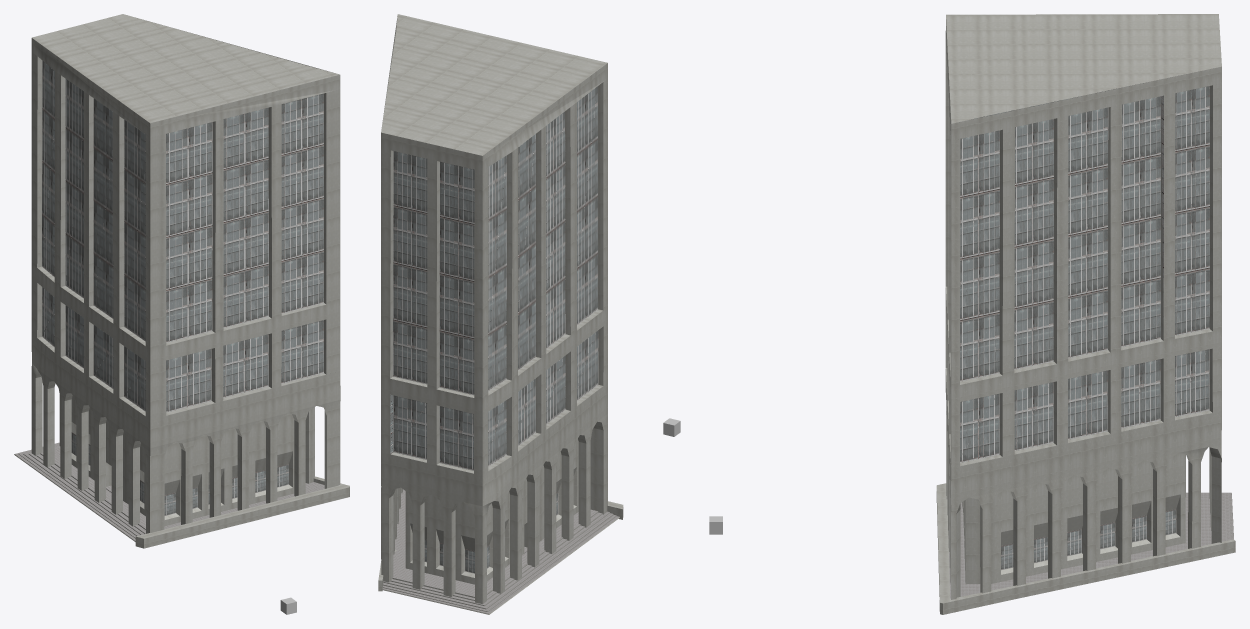
Rendered from archedbuilding.obj.
3 views of the same model, side by side, from view 1: azimuth 30°, elevation 25°; view 2: azimuth 150°, elevation 25°; view 3: azimuth 270°, elevation 25° (orthographic). The views are drawn at different scales.
Visible parts, largest first — view 1: archedbuilding_l0; view 2: archedbuilding_l0; view 3: archedbuilding_l0.
Part boxes in pixels (x1,y1,x2,y2): archedbuilding_l0: (14,14,349,548); archedbuilding_l0: (378,14,623,614); archedbuilding_l0: (936,14,1235,614).
Bounding box in the file's own units: 41.6 × 79.59 × 76.81.
Materials: 5 (4 with a texture image).
